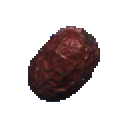gd: (19, 14, 113, 108)
